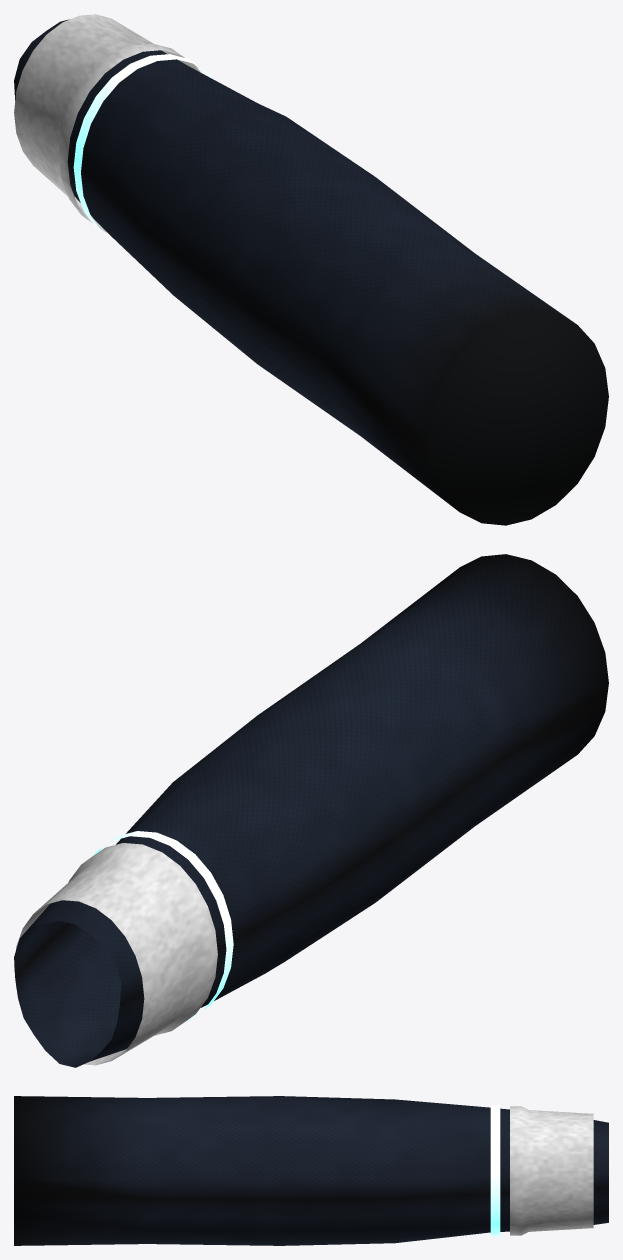
File: fp_forearm_neon.glb
3 views of the same model, one above another, from view 1: azimuth 30°, elevation 25°; view 2: azimuth 150°, elevation 25°; view 3: azimuth 270°, elevation 25° (orthographic). The views are drawn at different scales.
Parts seen in each view (by area): view 1: fp_forearm; view 2: fp_forearm; view 3: fp_forearm.
Part boxes in pixels (x1,y1,x2,y2): fp_forearm: (14, 14, 608, 525); fp_forearm: (14, 554, 608, 1067); fp_forearm: (14, 1096, 608, 1245).
Bounding box in the file's own units: 0.072 × 0.0792 × 0.312.
Materials: 3 (2 with a texture image).
